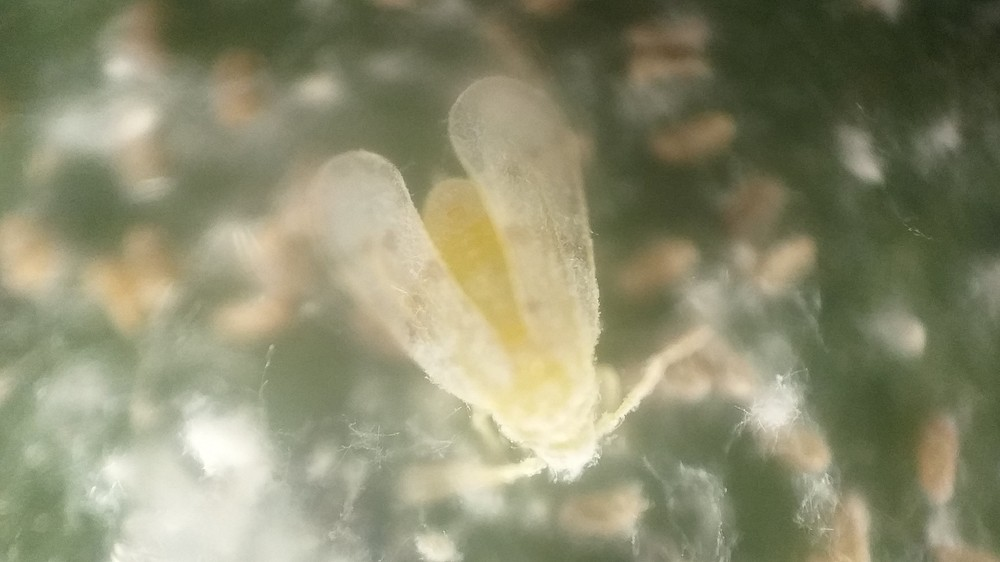Mosca Blanca: (285, 72, 716, 504)
